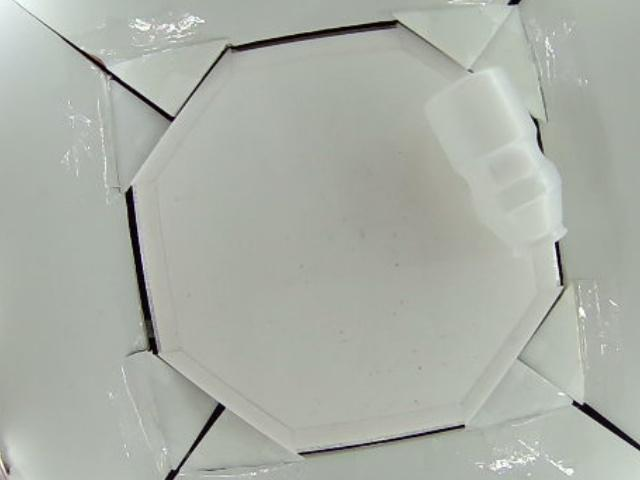Bottle: (415, 68, 571, 258)
